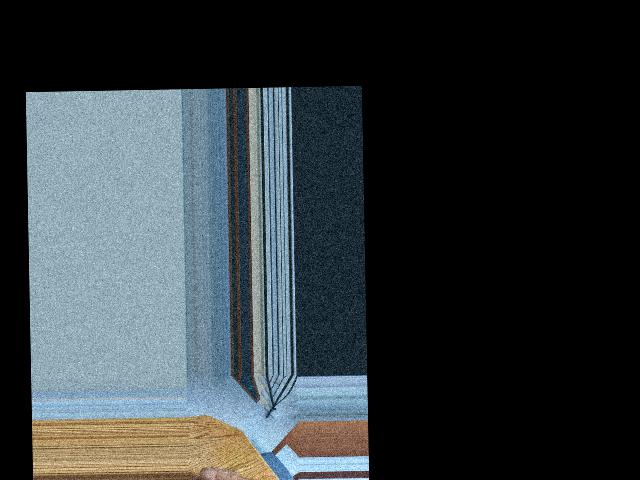sweet_potato: (201, 463, 268, 480)
